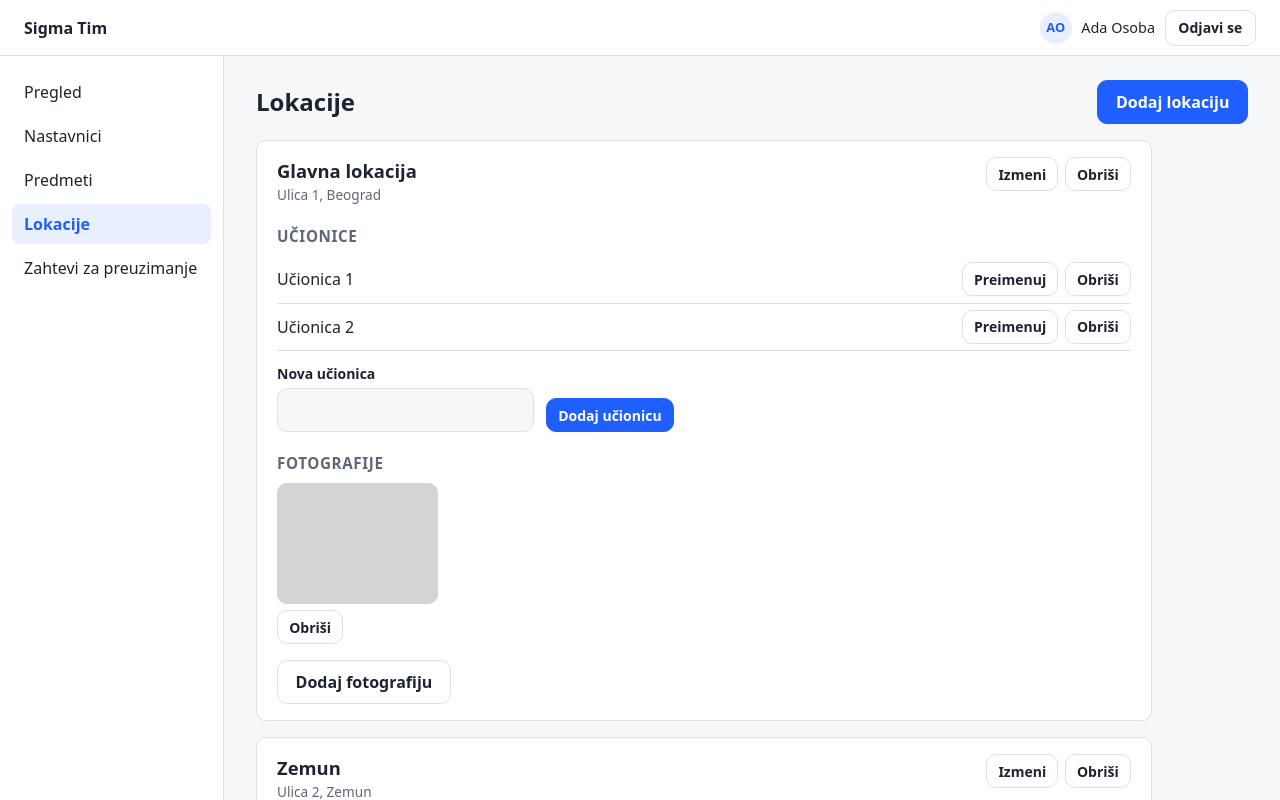
it: locations › adds a location
Click the button "Dodaj lokaciju" at (1173, 102), box 1097,80 -> 1248,124
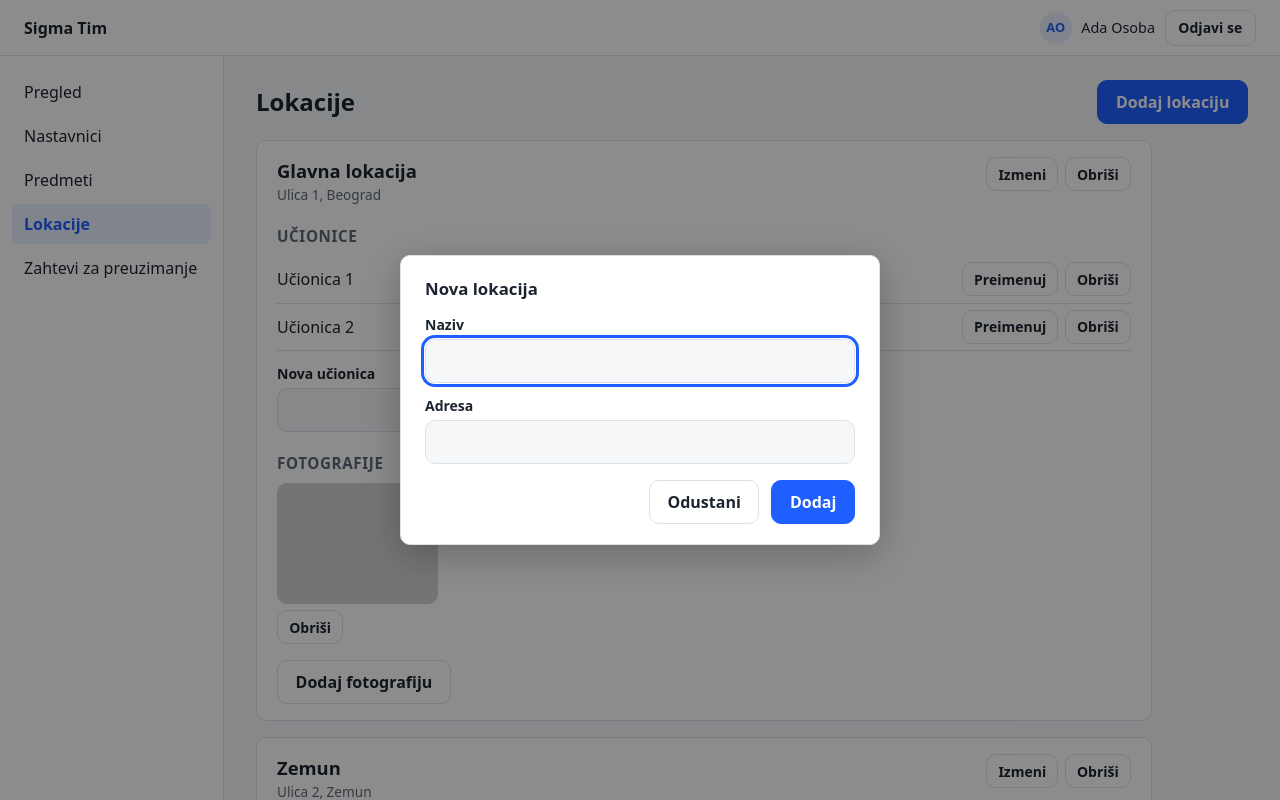
Type " Novi Beograd " into the field labelled "Naziv" at (640, 361), box 425,339 -> 855,383
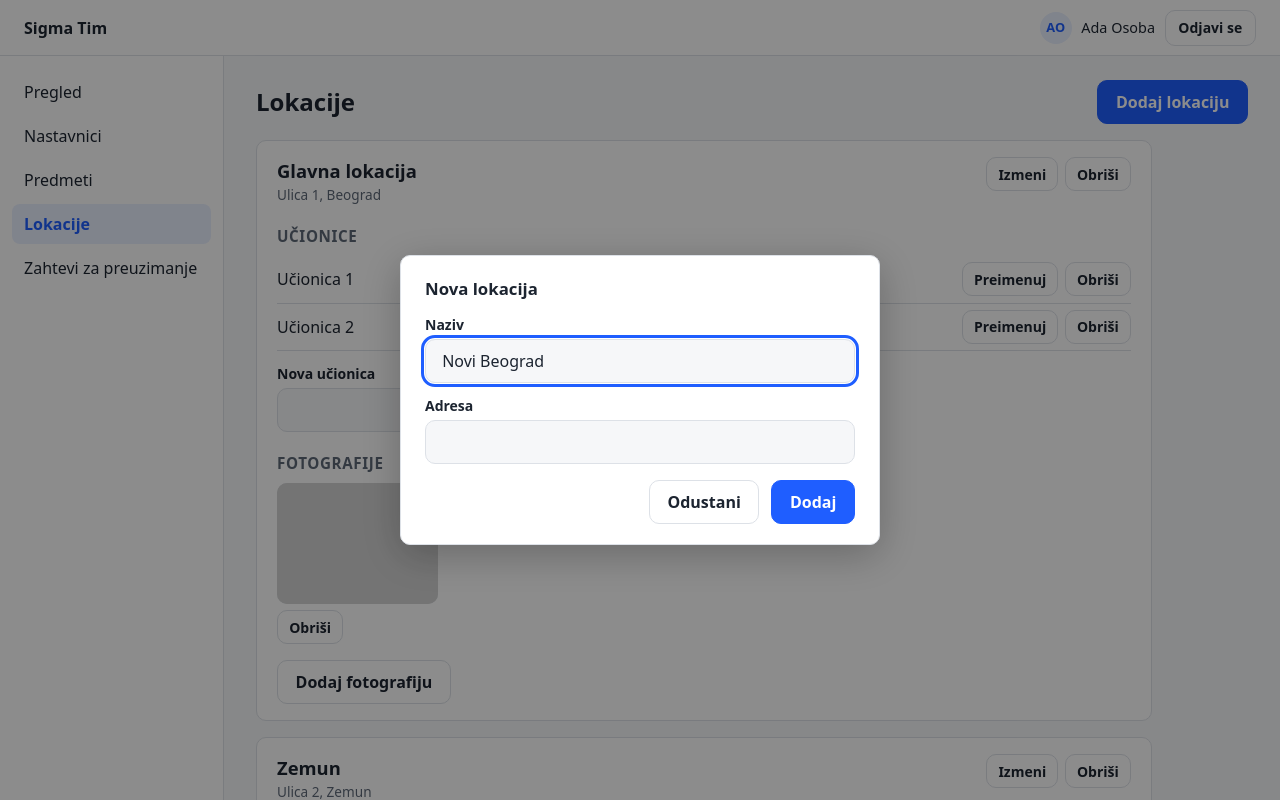
Type "Bulevar 5" into the field labelled "Adresa" at (640, 442), box 425,420 -> 855,464
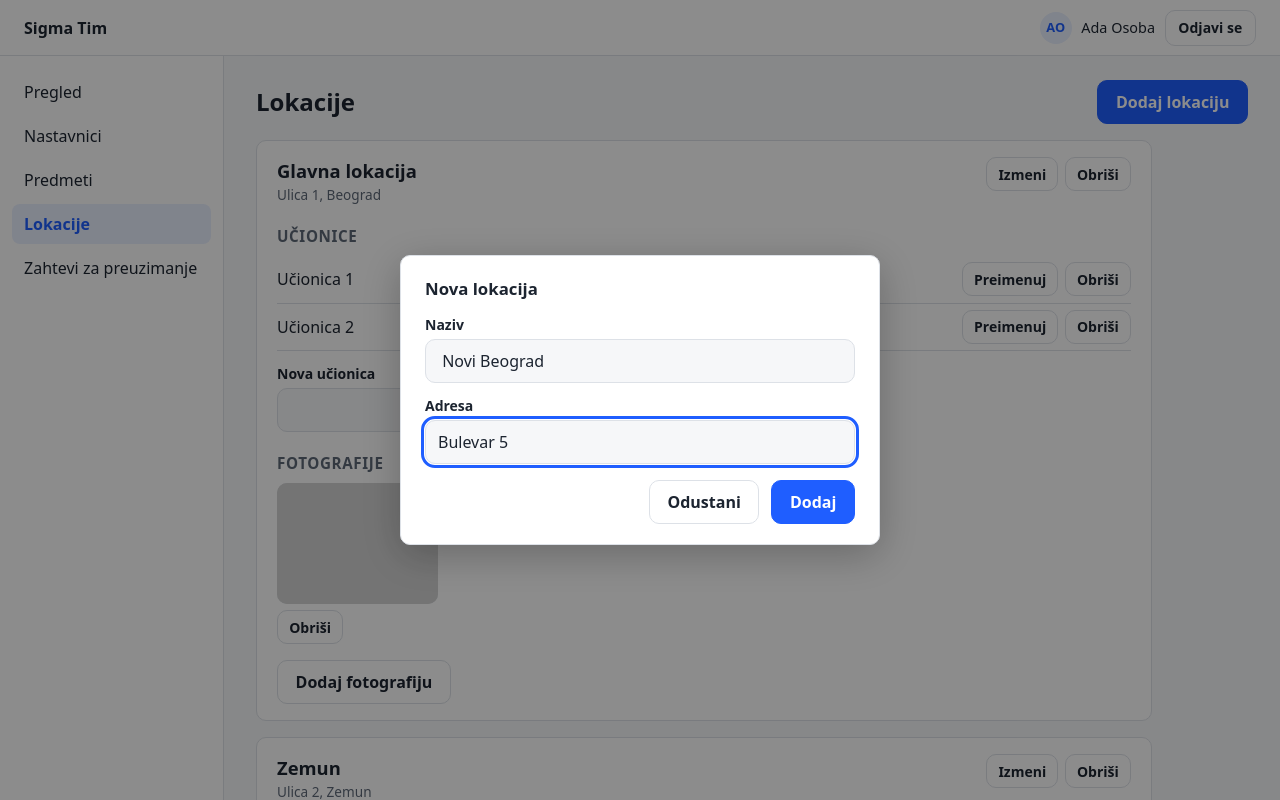
Click the button "Dodaj" at (813, 502), box 771,480 -> 855,524
(page scrolled)
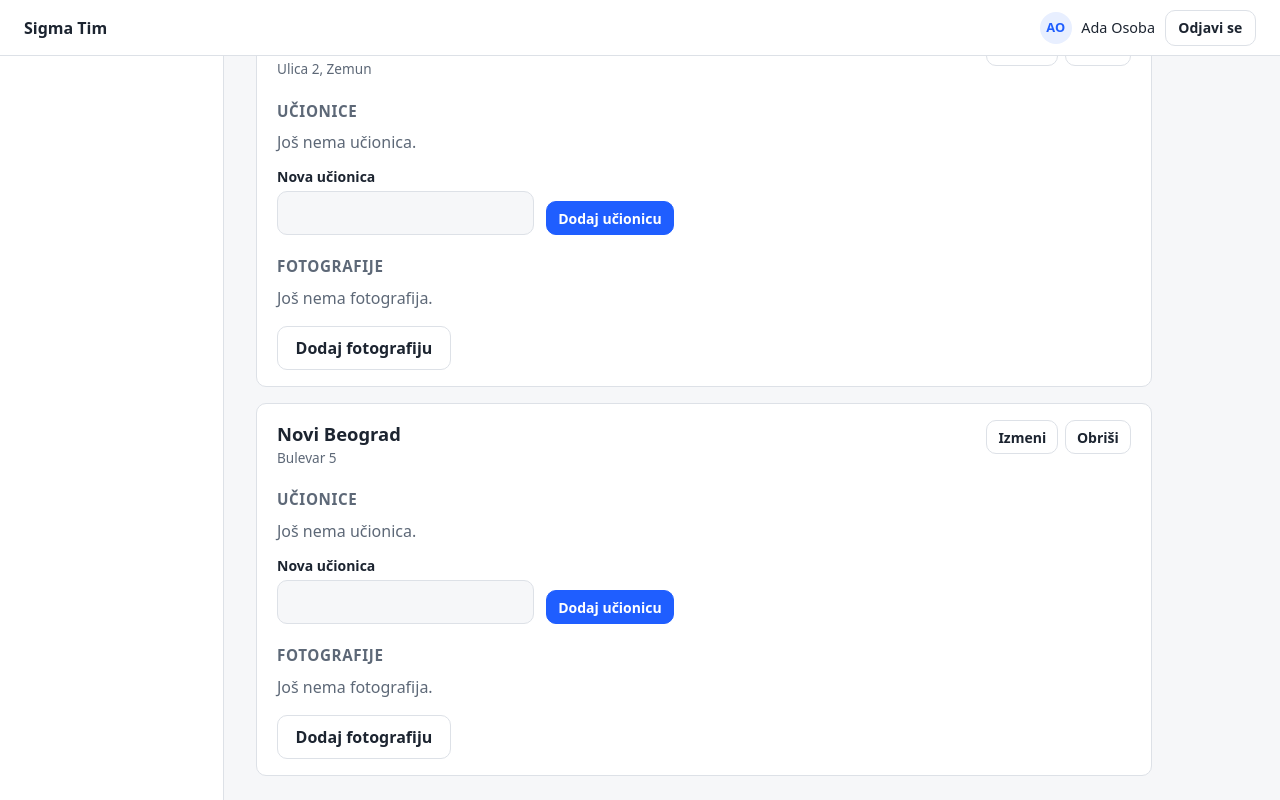
expect the element "Novi Beograd" is shown: met, box 256,403 -> 1152,776
